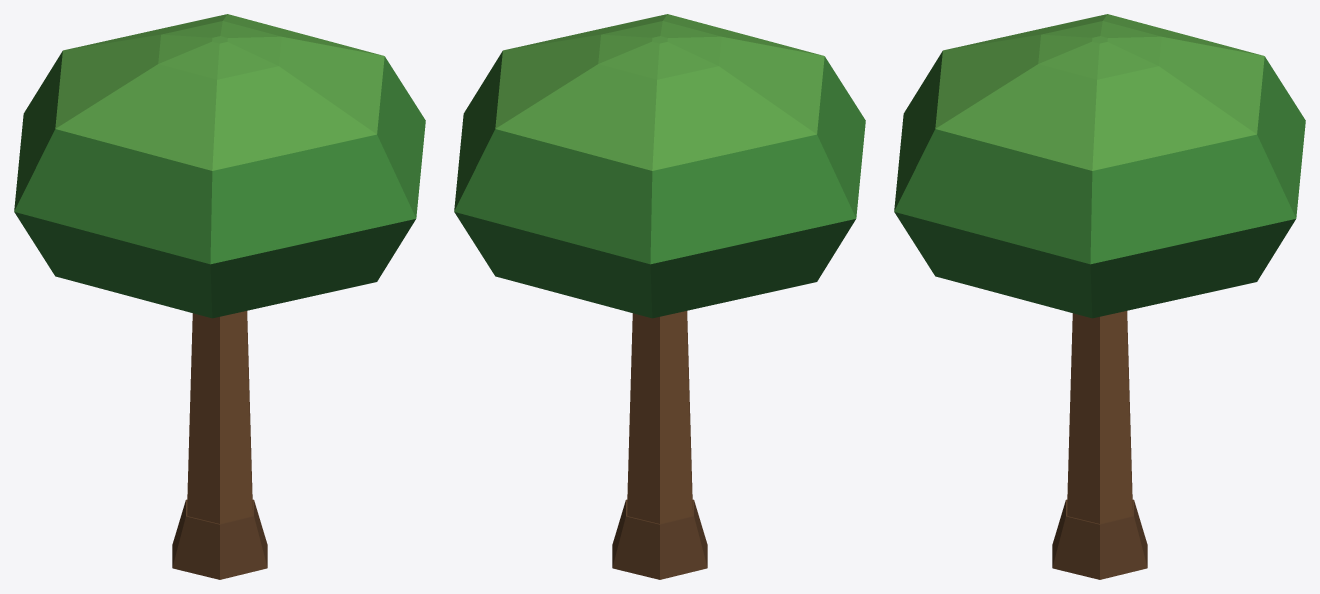
File: orange-2.glb
3 views of the same model, side by side, from view 1: azimuth 30°, elevation 25°; view 2: azimuth 150°, elevation 25°; view 3: azimuth 270°, elevation 25° (orthographic).
Parts seen in each view (by area): view 1: orange-2; view 2: orange-2; view 3: orange-2.
Part boxes in pixels (x1,y1,x2,y2): orange-2: (14,14,425,579); orange-2: (454,14,865,579); orange-2: (894,14,1305,579).
Bounding box in the file's own units: 0.2598 × 0.319 × 0.2303.
1 material, 1 textured.
